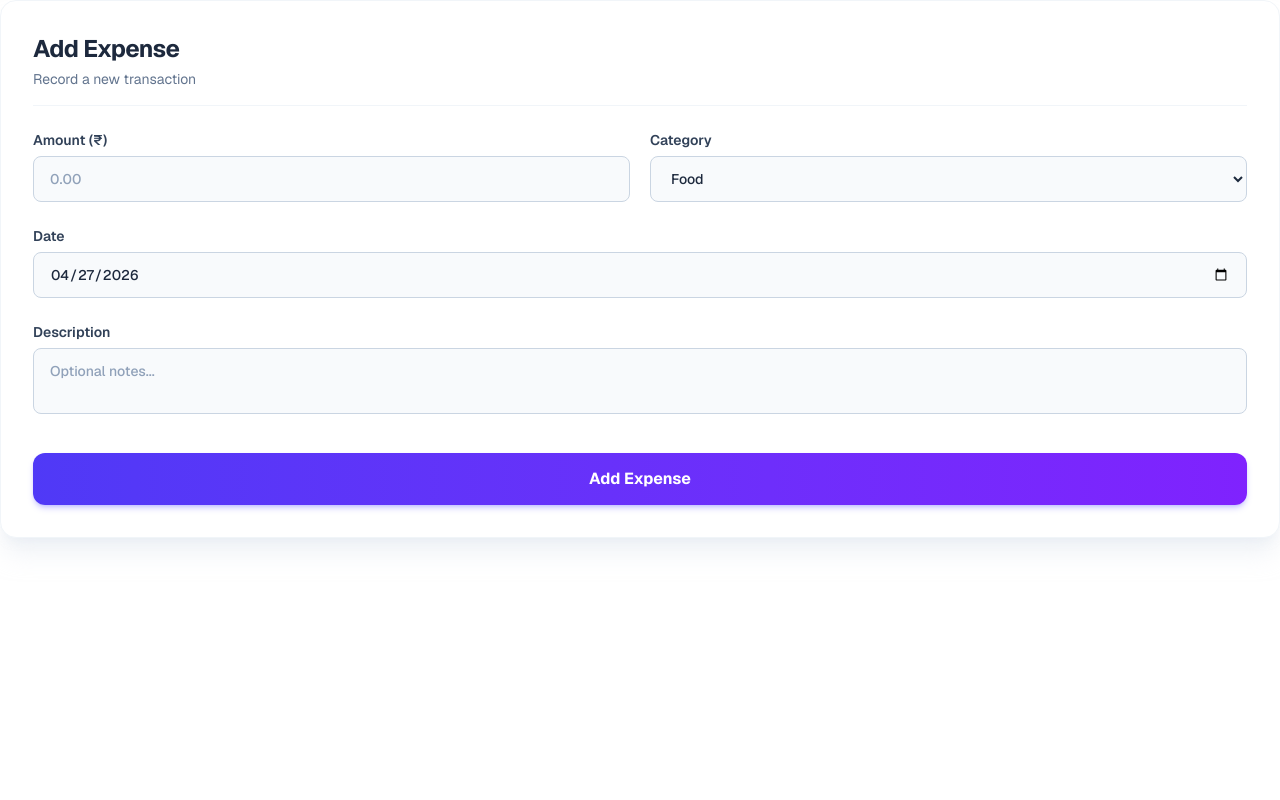
Test: ExpenseForm › shows validation error for zero amount
This screenshot has width=1280, height=800.
Type "0" into the number field labelled "Amount (₹)" at {"x": 332, "y": 179}, box [33,156,630,202]
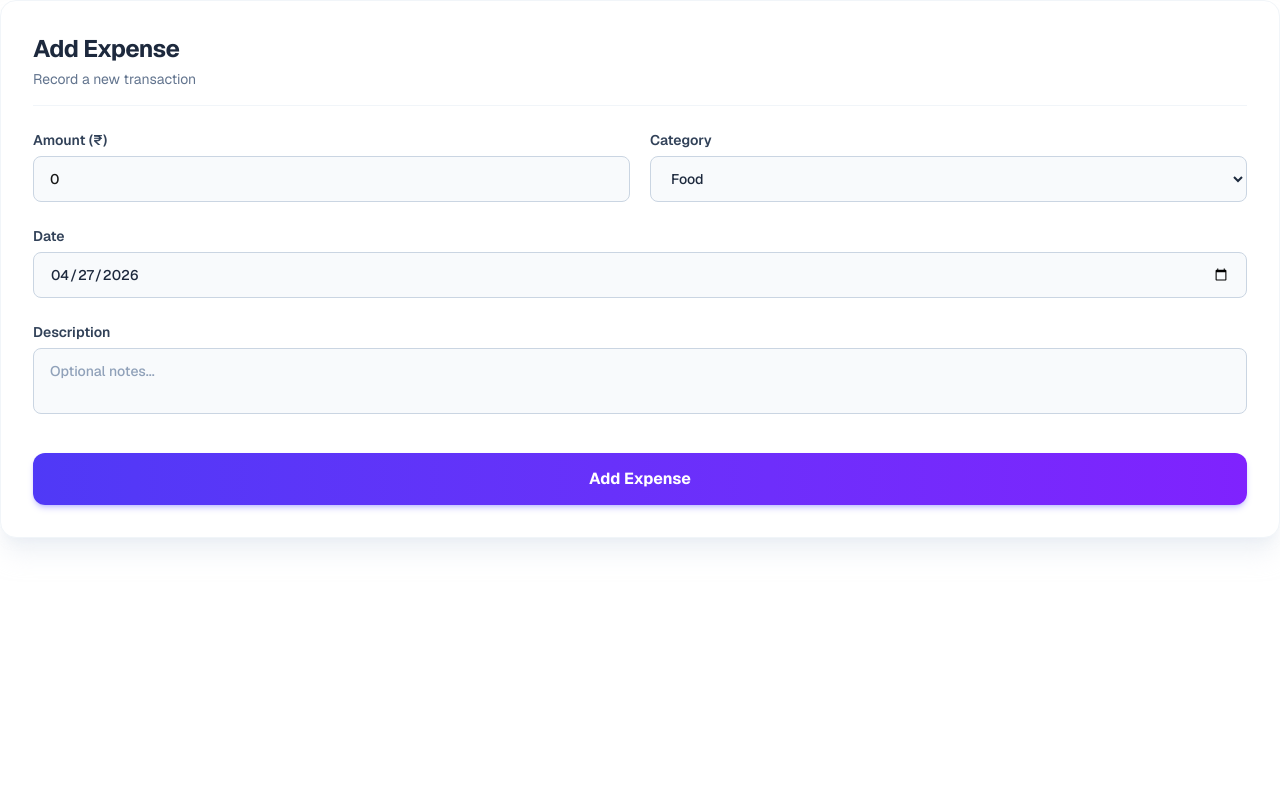
Submit the form "Add Expense"
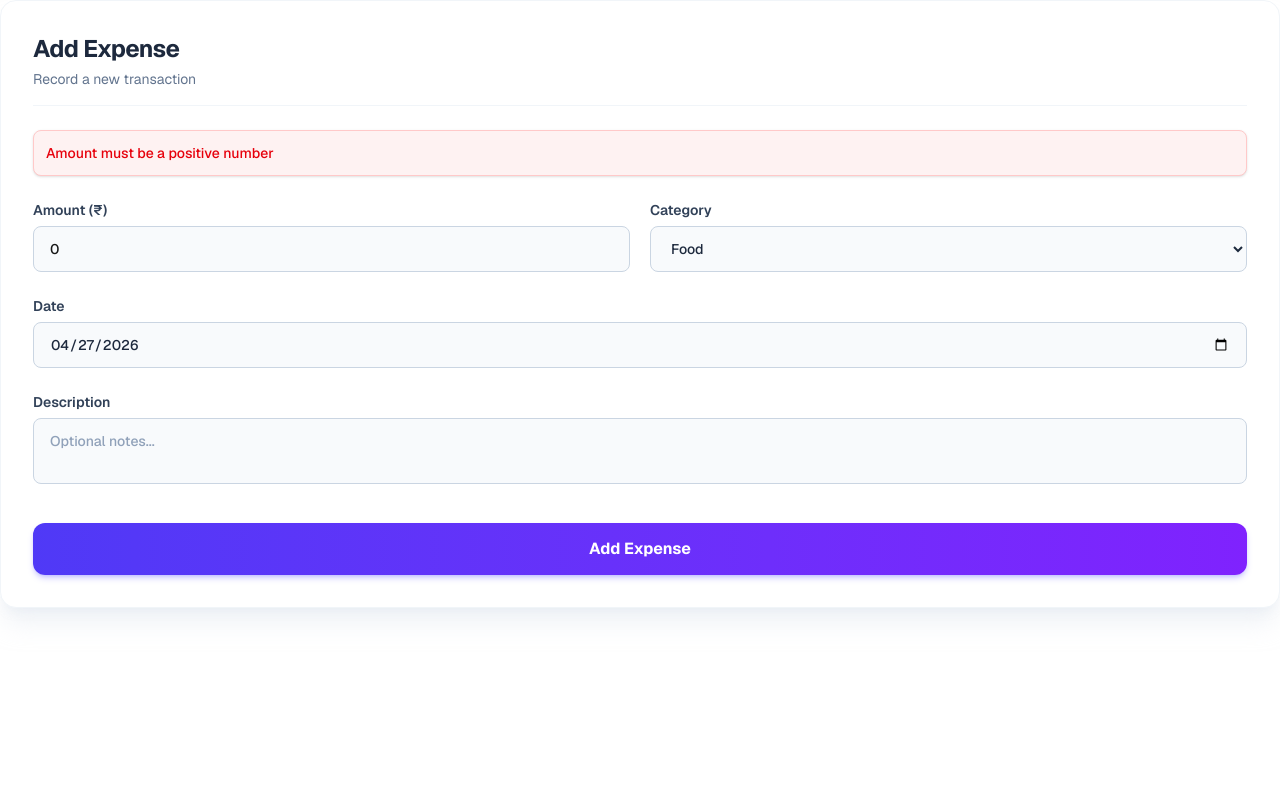
Expected: the text "Amount must be a positive number" is shown, [33,130,1247,176]
